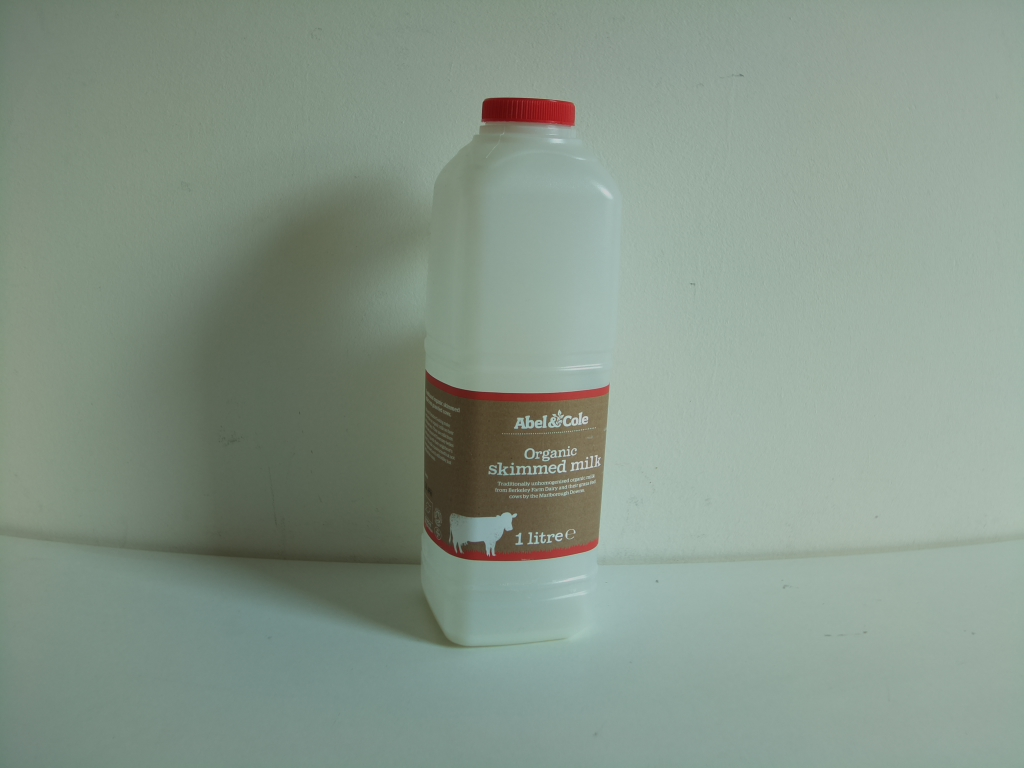milk: (412, 96, 626, 652)
